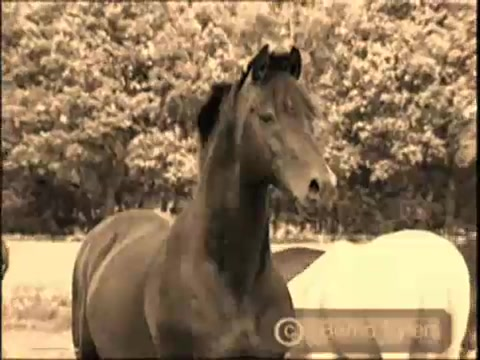horse: (70, 44, 342, 360)
